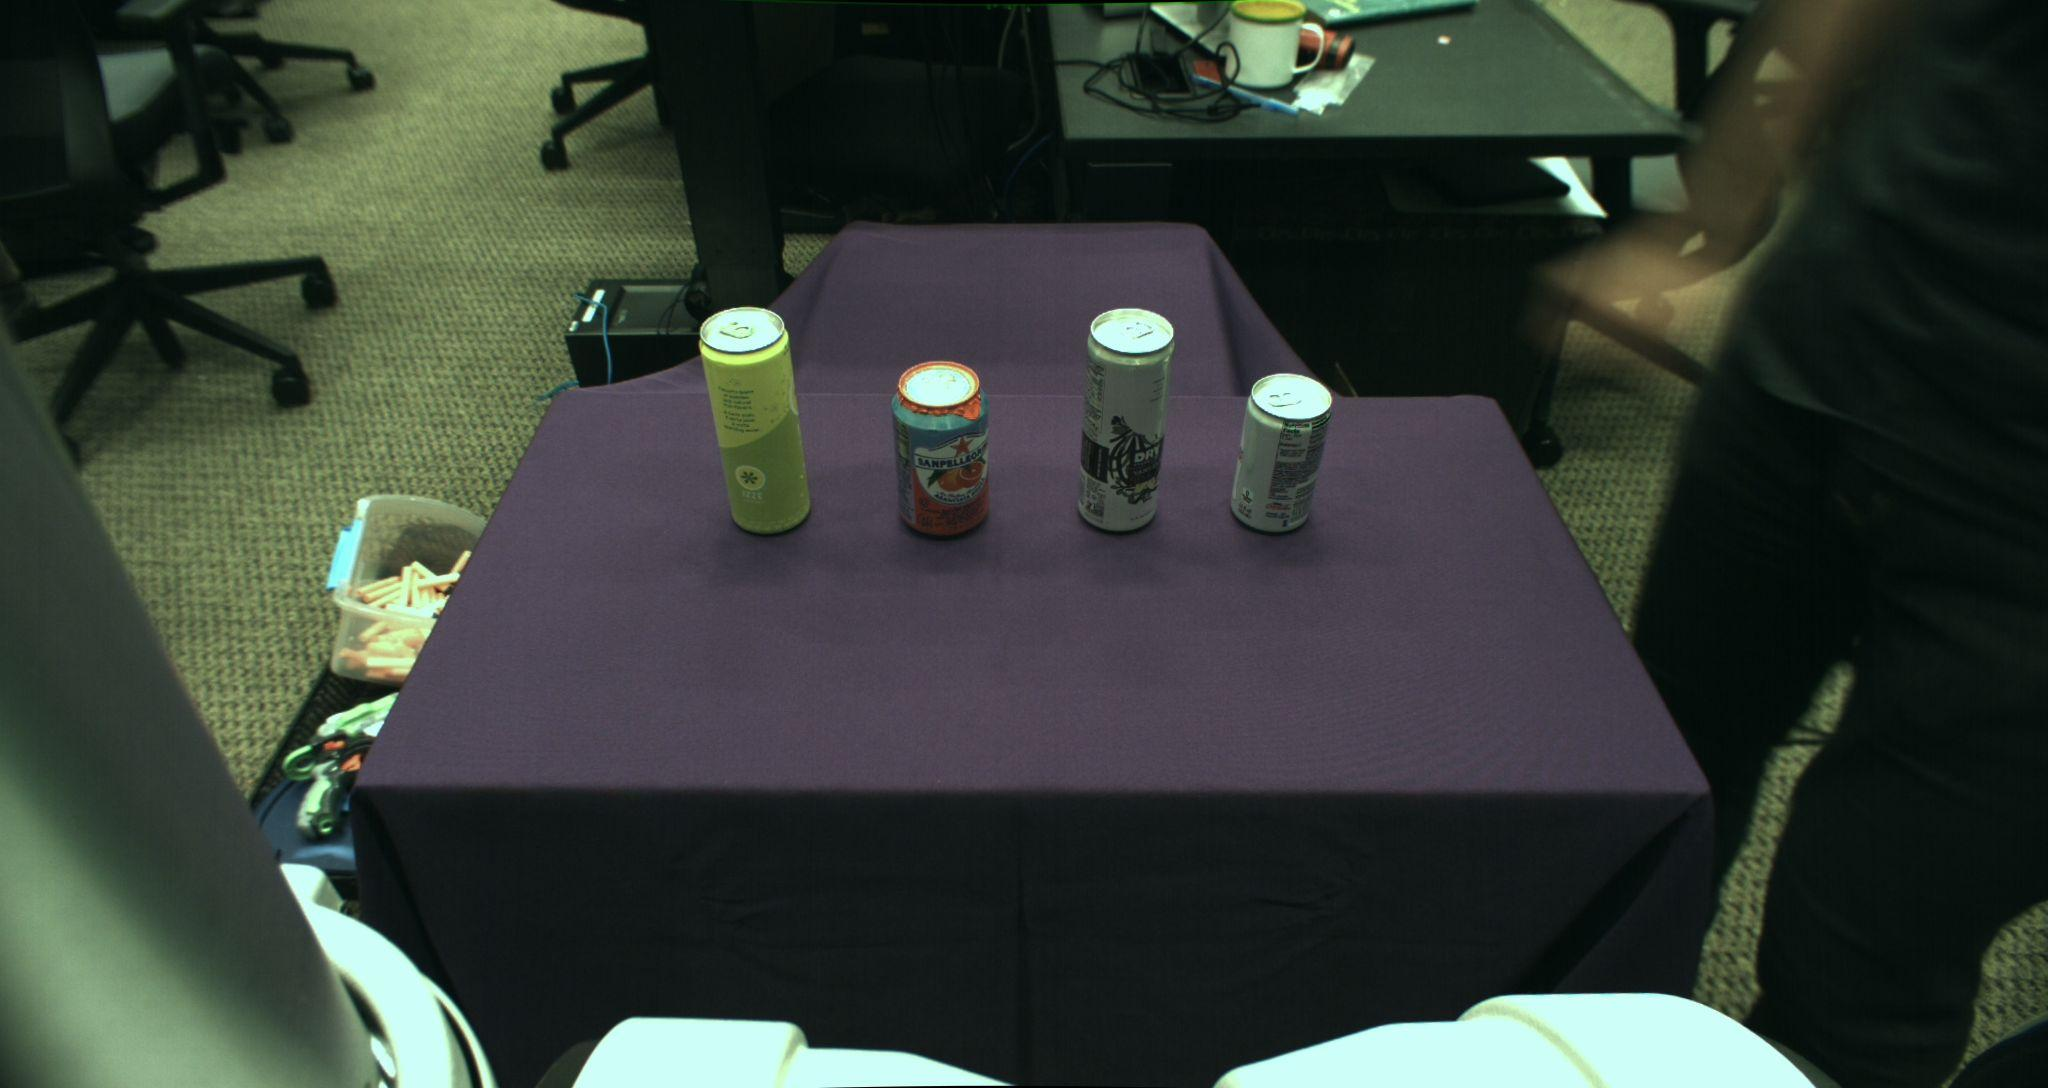can_diet_coke_small: (1231, 374, 1331, 534)
can_dry_sparkling_vanilla_bean: (1080, 308, 1174, 534)
can_izze_fusions_lemon_lime: (698, 308, 811, 534)
can_sanpellegrino_blood_orange: (890, 359, 990, 537)
